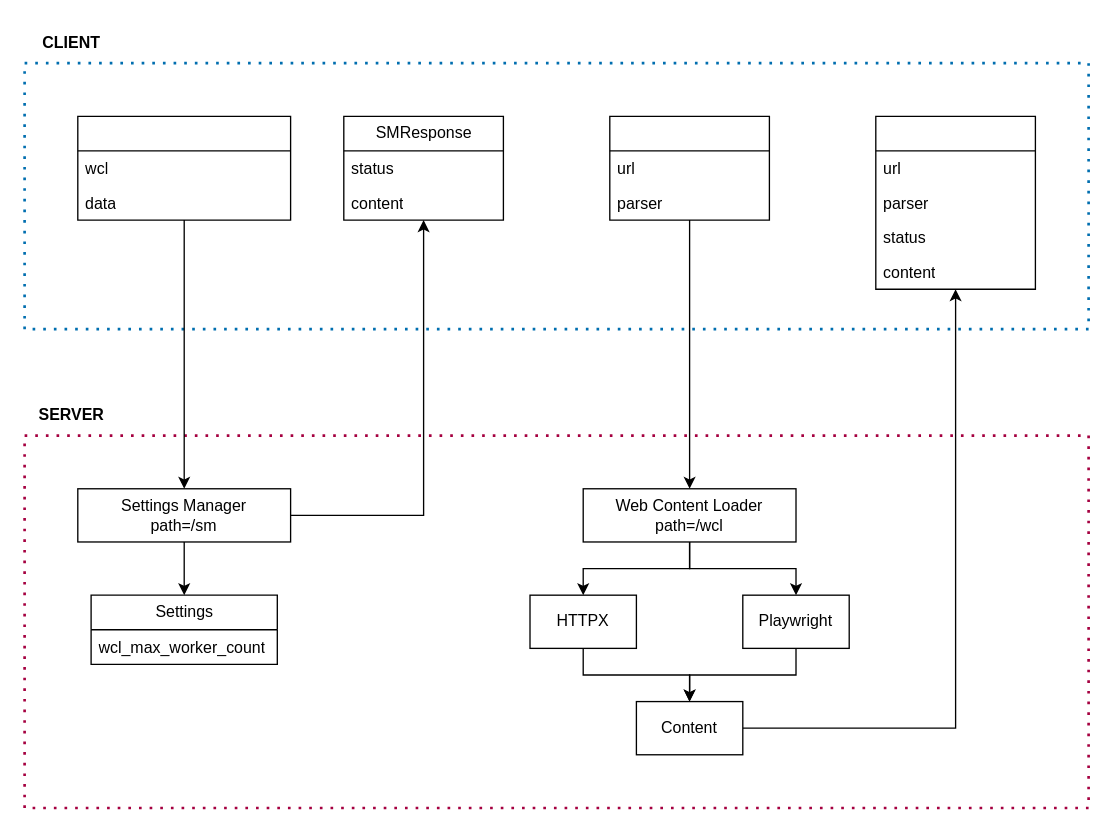
Image size: 1113x833. Some labels were removed from this diagram. Here are the shapes that lost their labels. From the top down, the box of each, then its label:
(76, 115, 291, 220): SMRequest
(608, 115, 769, 220): WCLRequest
(874, 115, 1035, 289): WCLResponse
